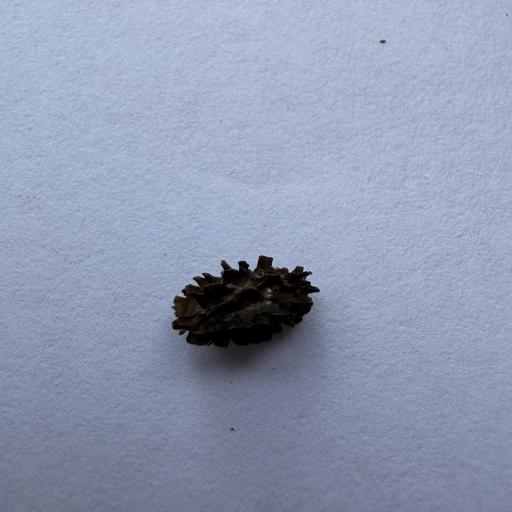papaya_seed: (153, 246, 325, 356)
